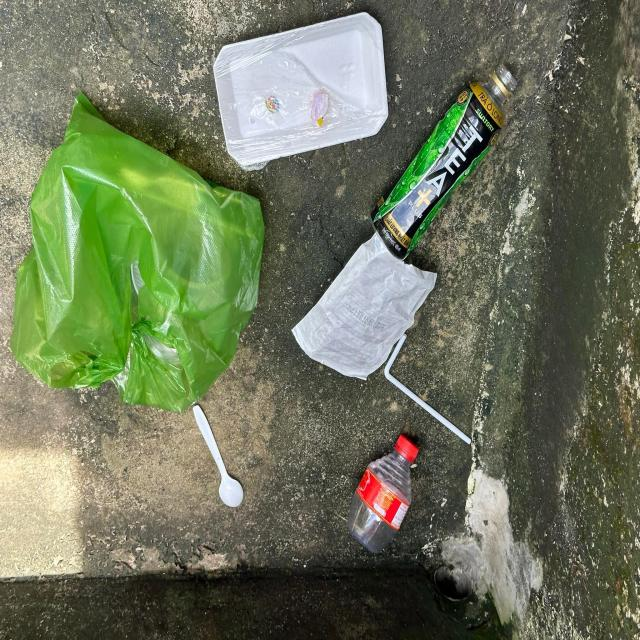bottle: (369, 64, 516, 261), (348, 434, 420, 556)
drinking straw: (383, 333, 472, 446)
foam box: (212, 9, 390, 168)
packet: (292, 230, 438, 382)
plastic utensil: (193, 404, 245, 509)
trash bag: (10, 89, 266, 415)
